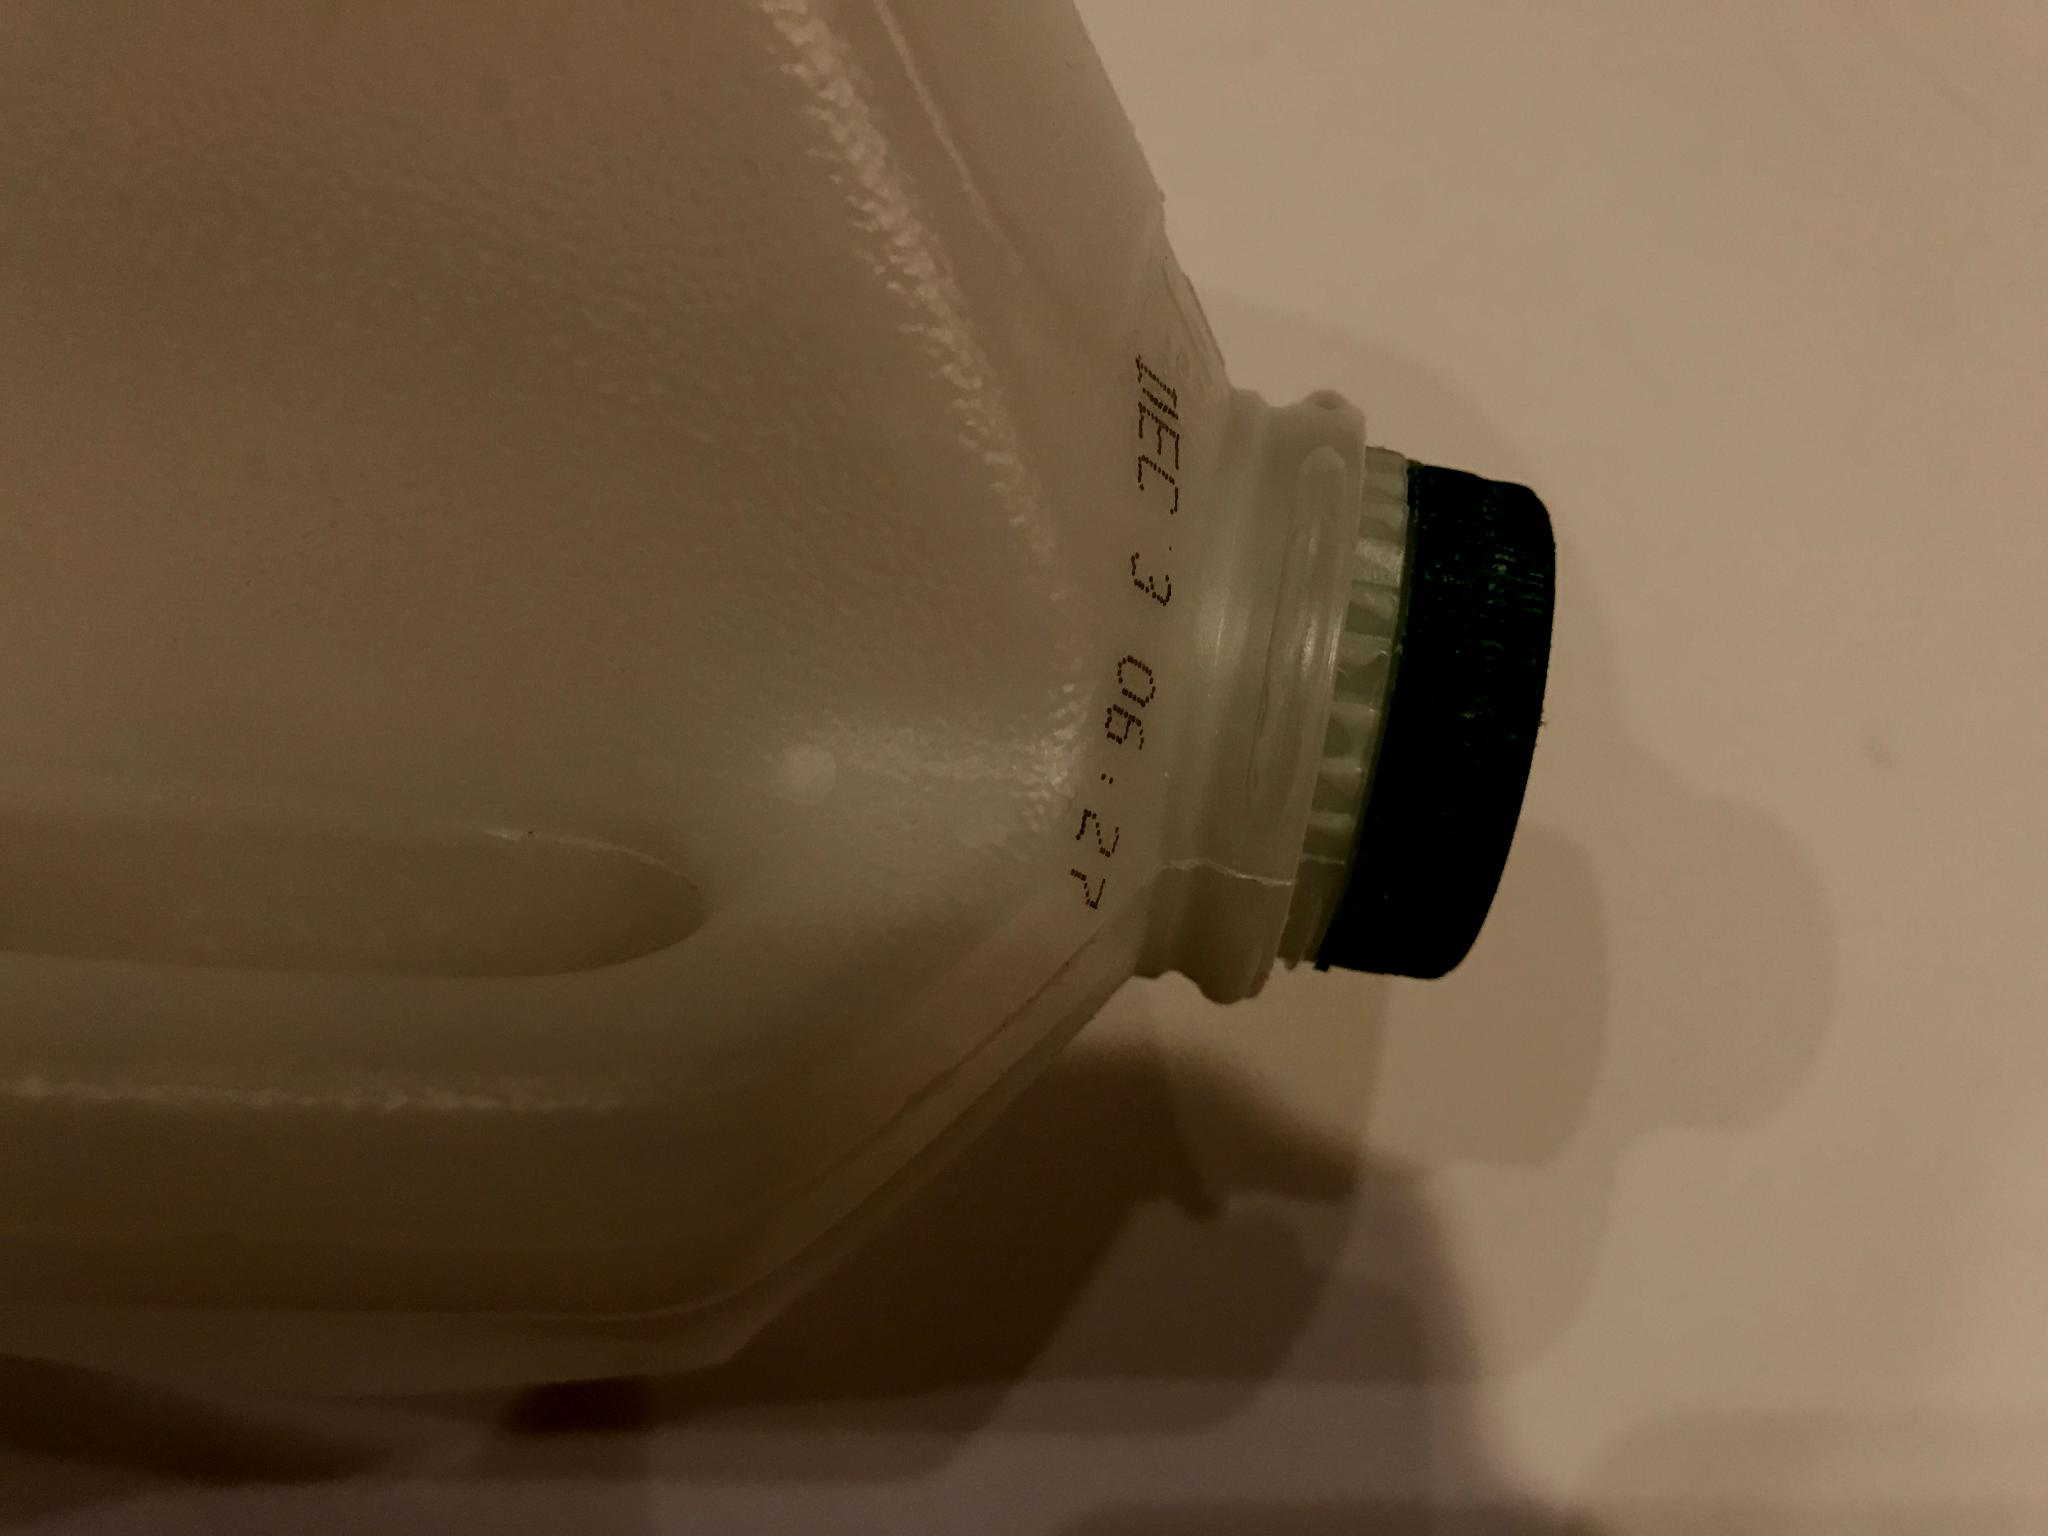Plastic: (0, 0, 1613, 1415)
